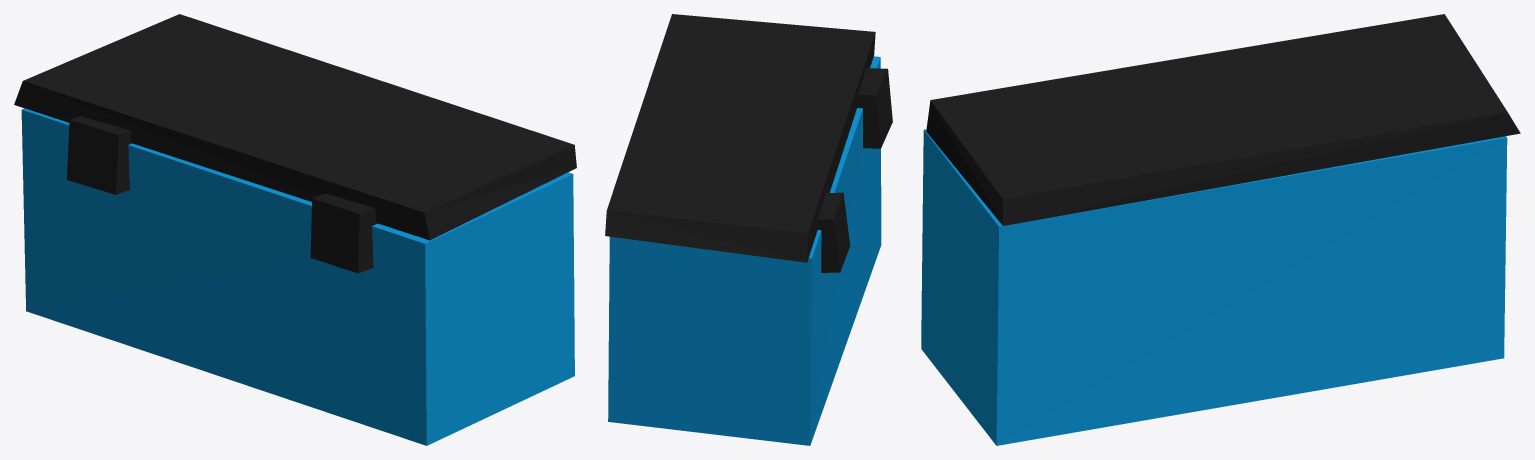
3 renders of one model, left to right at view 1: azimuth 30°, elevation 25°; view 2: azimuth 150°, elevation 25°; view 3: azimuth 270°, elevation 25°, orthographic. The views are drawn at different scales.
Visible parts, largest first — view 1: mesh_40178886, mesh_1259453079, mesh_1810534579, mesh_1079189221; view 2: mesh_1259453079, mesh_40178886, mesh_1810534579, mesh_1079189221; view 3: mesh_40178886, mesh_1259453079.
Part boxes in pixels (x1=…): mesh_40178886: x1=21, y1=108, x2=574, y2=445; mesh_1259453079: x1=14, y1=14, x2=576, y2=240; mesh_1810534579: x1=310, y1=193, x2=377, y2=273; mesh_1079189221: x1=67, y1=116, x2=131, y2=194; mesh_1259453079: x1=605, y1=14, x2=875, y2=262; mesh_40178886: x1=608, y1=56, x2=881, y2=445; mesh_1810534579: x1=857, y1=68, x2=892, y2=148; mesh_1079189221: x1=817, y1=192, x2=850, y2=272; mesh_40178886: x1=921, y1=129, x2=1507, y2=445; mesh_1259453079: x1=926, y1=14, x2=1520, y2=225.
Size of the model in its own units: 25.79 by 15.98 by 34.76.
